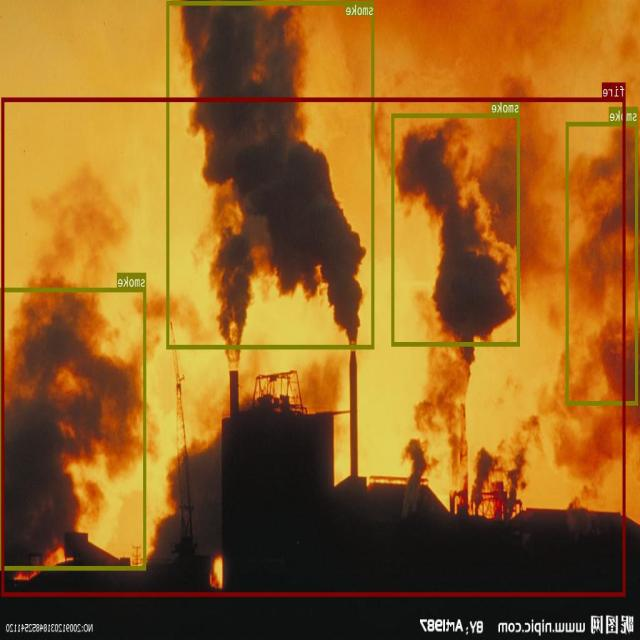fire: (2, 97, 626, 596)
smoke: (167, 0, 375, 348), (1, 287, 147, 569), (392, 113, 520, 345), (566, 121, 638, 405)
